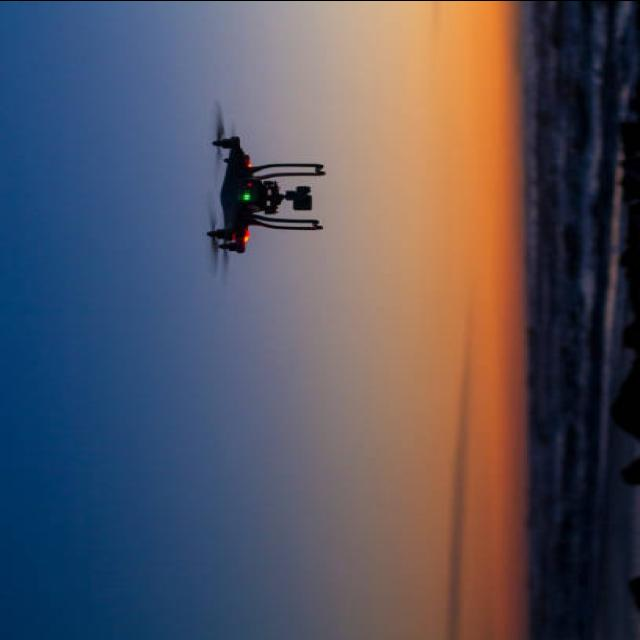drone: (204, 100, 326, 284)
